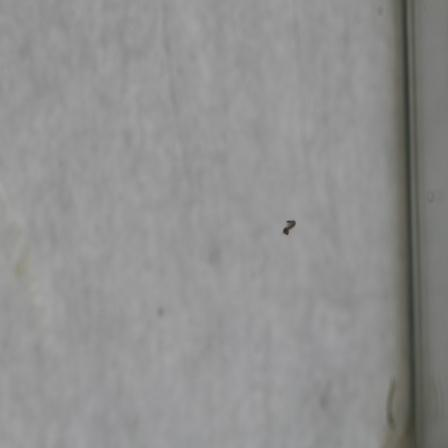Jentik-Nyamuk: (280, 216, 298, 241)
